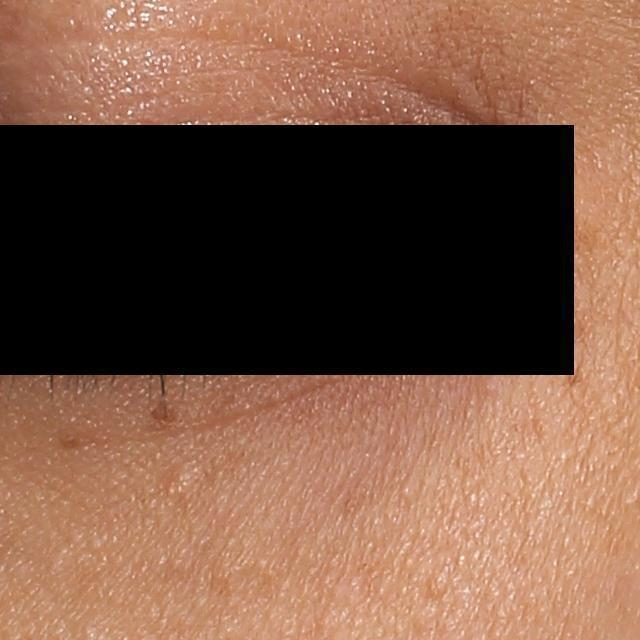comedo: (167, 467, 197, 494)
melasma: (562, 358, 584, 387), (57, 427, 84, 449)
